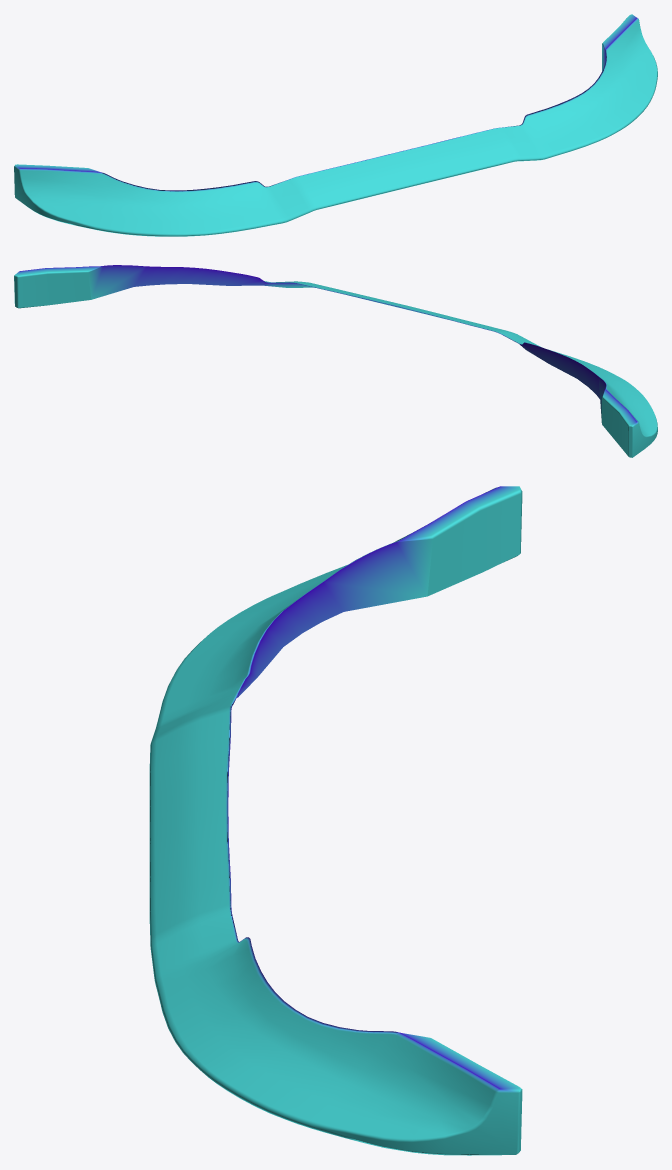
The model's file is Car_Mini_CountrymanJCW_2017_Splitter_SetB_AltB.fbx.
The picture shows the model from 3 angles, top to bottom: view 1: azimuth 30°, elevation 25°; view 2: azimuth 150°, elevation 25°; view 3: azimuth 270°, elevation 25°; orthographic projection. The views are drawn at different scales.
Parts seen in each view (by area): view 1: Splitter 6; view 2: Splitter 6; view 3: Splitter 6.
Boxes of the visible parts, x1,y1,x2,y2 form: Splitter 6: (14, 14, 657, 236); Splitter 6: (14, 265, 657, 457); Splitter 6: (149, 486, 522, 1155).
Bounding box in the file's own units: 1.99 × 0.1134 × 0.5164.
